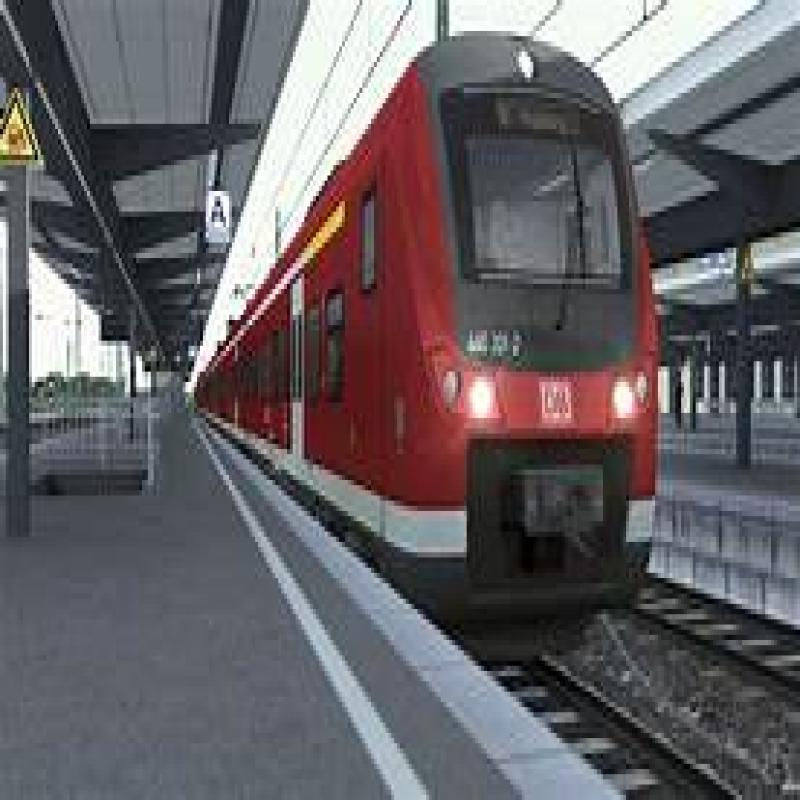train: (314, 27, 647, 610)
